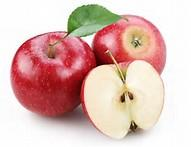apple: (61, 23, 155, 114)
